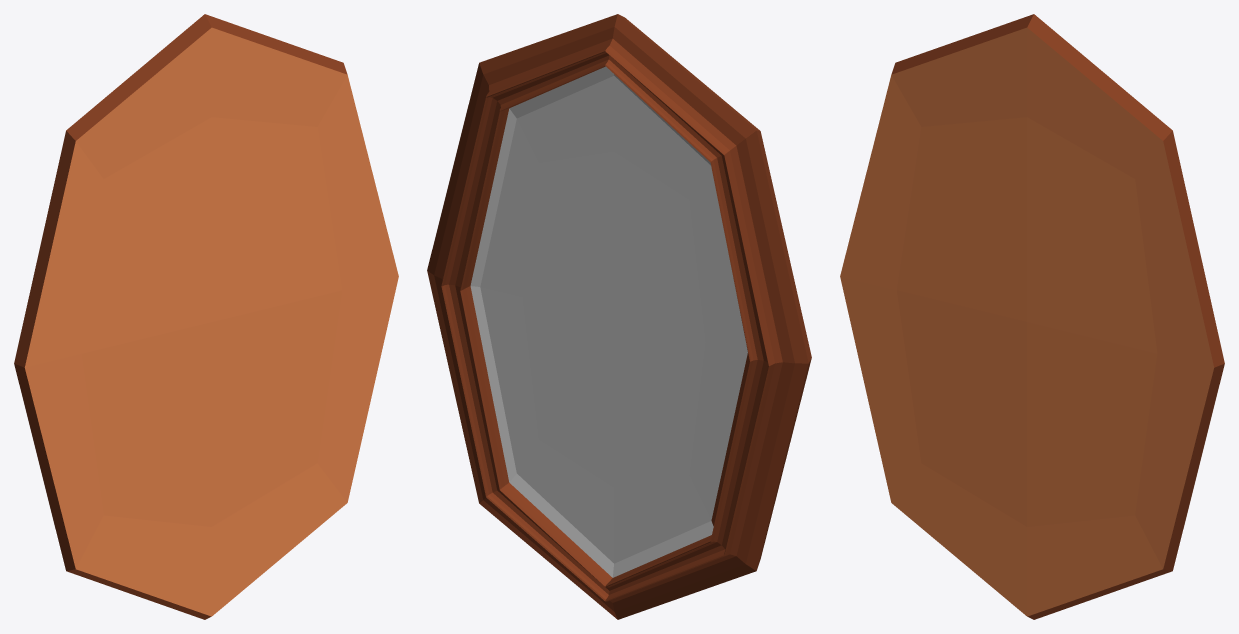
File: prop_mirror.fbx
3 views of the same model, side by side, from view 1: azimuth 30°, elevation 25°; view 2: azimuth 150°, elevation 25°; view 3: azimuth 330°, elevation 25° (orthographic).
Parts seen in each view (by area): view 1: Cube.001; view 2: Cube.001; view 3: Cube.001.
Part boxes in pixels (x1,y1,x2,y2): Cube.001: (14,14,398,619); Cube.001: (427,14,811,619); Cube.001: (840,14,1224,619).
Size of the model in its own units: 246 by 374 by 21.98.
